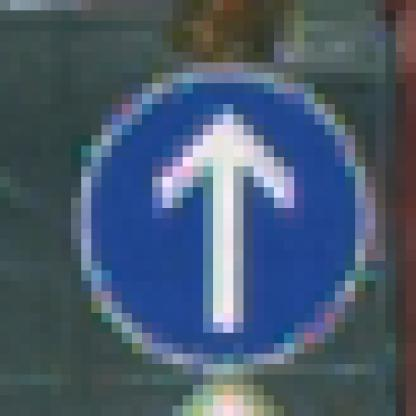AheadOnly: (62, 63, 356, 365)
